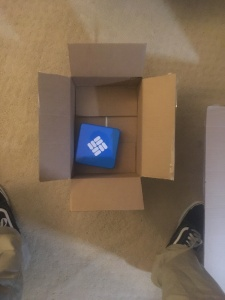innerbox: (69, 75, 142, 178)
outerbox: (39, 45, 173, 208)
product: (78, 123, 117, 166)
